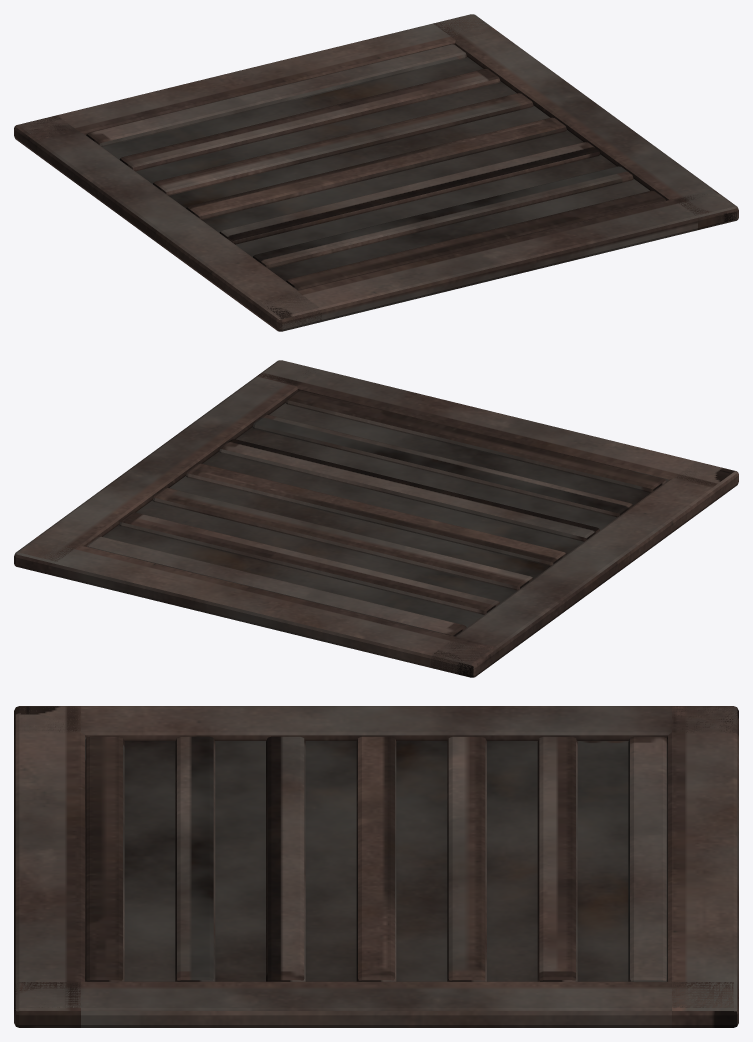
File: Floor_Drain.fbx
The picture shows the model from 3 angles, top to bottom: view 1: azimuth 30°, elevation 25°; view 2: azimuth 150°, elevation 25°; view 3: azimuth 270°, elevation 25°; orthographic projection. The views are drawn at different scales.
Parts seen in each view (by area): view 1: Floor_Drain_Mesh; view 2: Floor_Drain_Mesh; view 3: Floor_Drain_Mesh.
Part boxes in pixels (x1=…): Floor_Drain_Mesh: x1=14, y1=14, x2=738, y2=331; Floor_Drain_Mesh: x1=14, y1=360, x2=738, y2=677; Floor_Drain_Mesh: x1=14, y1=706, x2=738, y2=1027.
Size of the model in its own units: 0.4 by 0.019 by 0.4.
